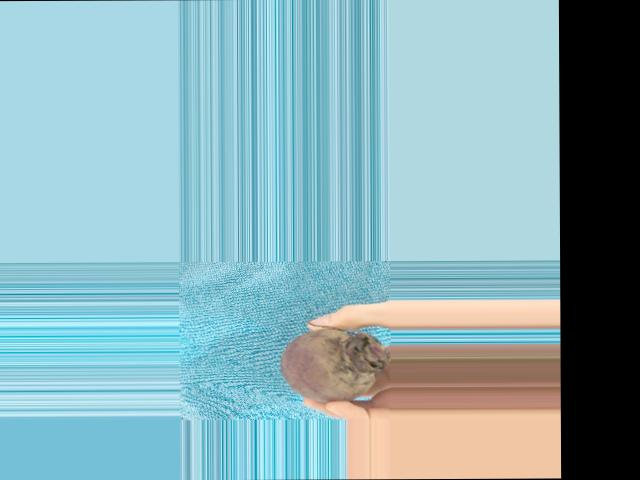beet: (280, 319, 389, 402)
